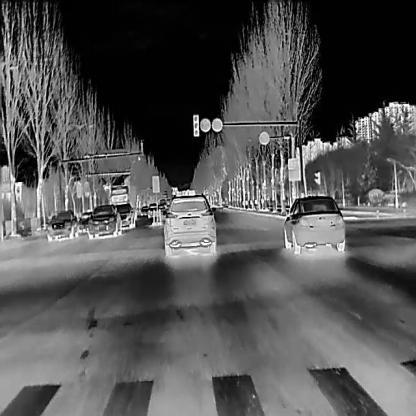car: (282, 194, 345, 255), (162, 190, 215, 254), (86, 202, 122, 238), (46, 207, 78, 241), (109, 184, 135, 212), (117, 202, 136, 229), (140, 205, 148, 215)
